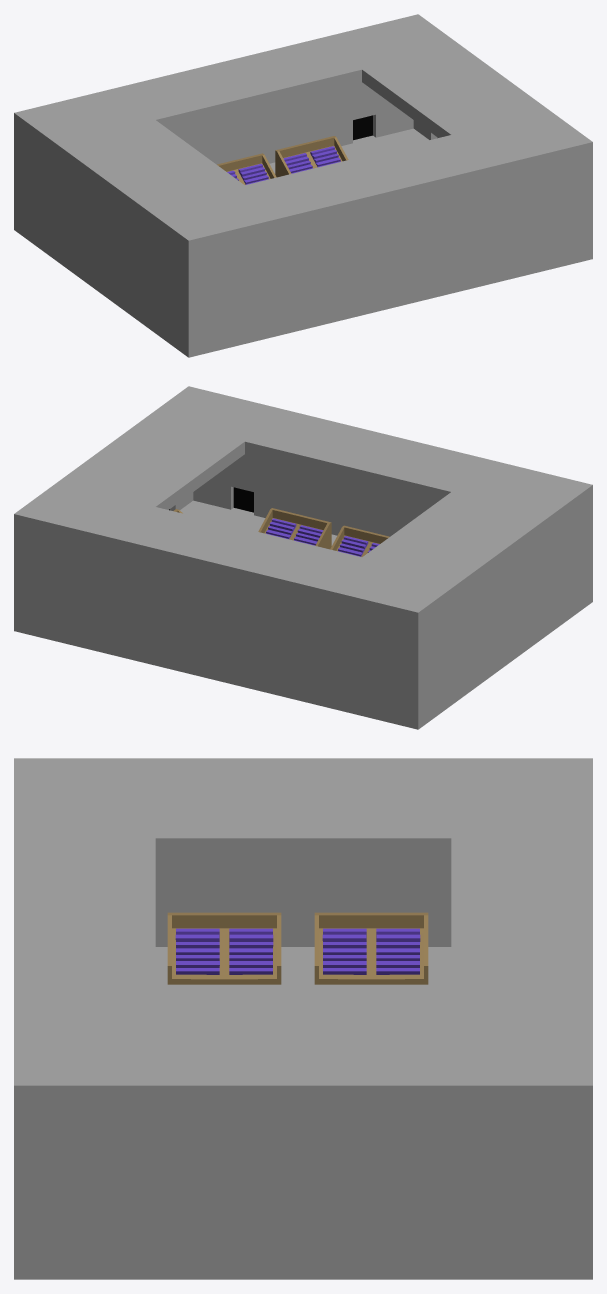
The model's file is BBall - Stadium Frame.fbx.
3 views of the same model, one above another, from view 1: azimuth 30°, elevation 25°; view 2: azimuth 150°, elevation 25°; view 3: azimuth 270°, elevation 25° (orthographic). The views are drawn at different scales.
Visible parts, largest first — view 1: Cube.001, Cube.003, Cube.002; view 2: Cube.001, Cube.007, Cube.006; view 3: Cube.001, Cube.004, Cube.008.
Boxes of the visible parts, bbox=[...] form: Cube.001: bbox=[14, 14, 592, 357]; Cube.003: bbox=[275, 136, 348, 177]; Cube.002: bbox=[217, 153, 276, 184]; Cube.001: bbox=[14, 386, 592, 729]; Cube.007: bbox=[258, 508, 331, 549]; Cube.006: bbox=[330, 525, 389, 556]; Cube.001: bbox=[14, 758, 592, 1279]; Cube.004: bbox=[167, 912, 281, 984]; Cube.008: bbox=[314, 912, 428, 984].
Size of the model in its own units: 8127 by 2248 by 6080.
